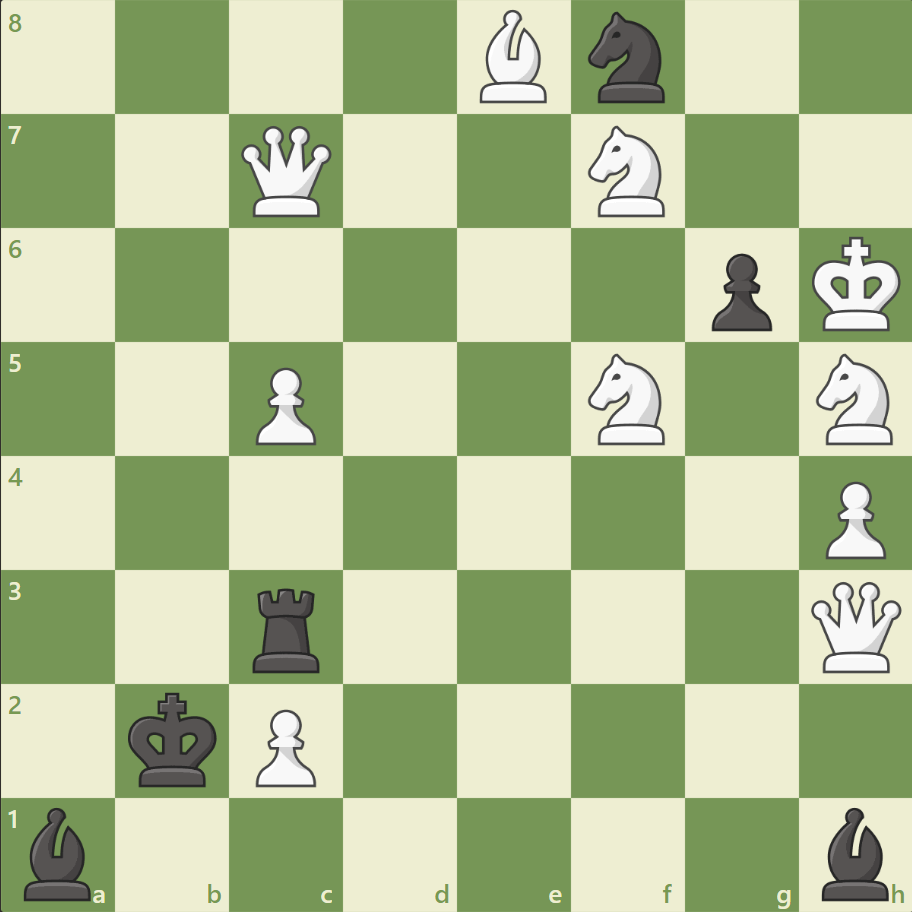B: (471, 6, 555, 109)
K: (806, 231, 906, 339)
N: (579, 121, 676, 223), (579, 348, 676, 450), (806, 348, 903, 450)
P: (247, 359, 322, 450), (247, 700, 322, 791), (815, 473, 889, 564)
Q: (237, 122, 336, 222), (805, 576, 904, 676)
b: (17, 801, 101, 904), (812, 801, 896, 904)
k: (124, 685, 224, 793)
n: (579, 7, 676, 110)
p: (701, 246, 776, 337)
r: (246, 579, 329, 676)
